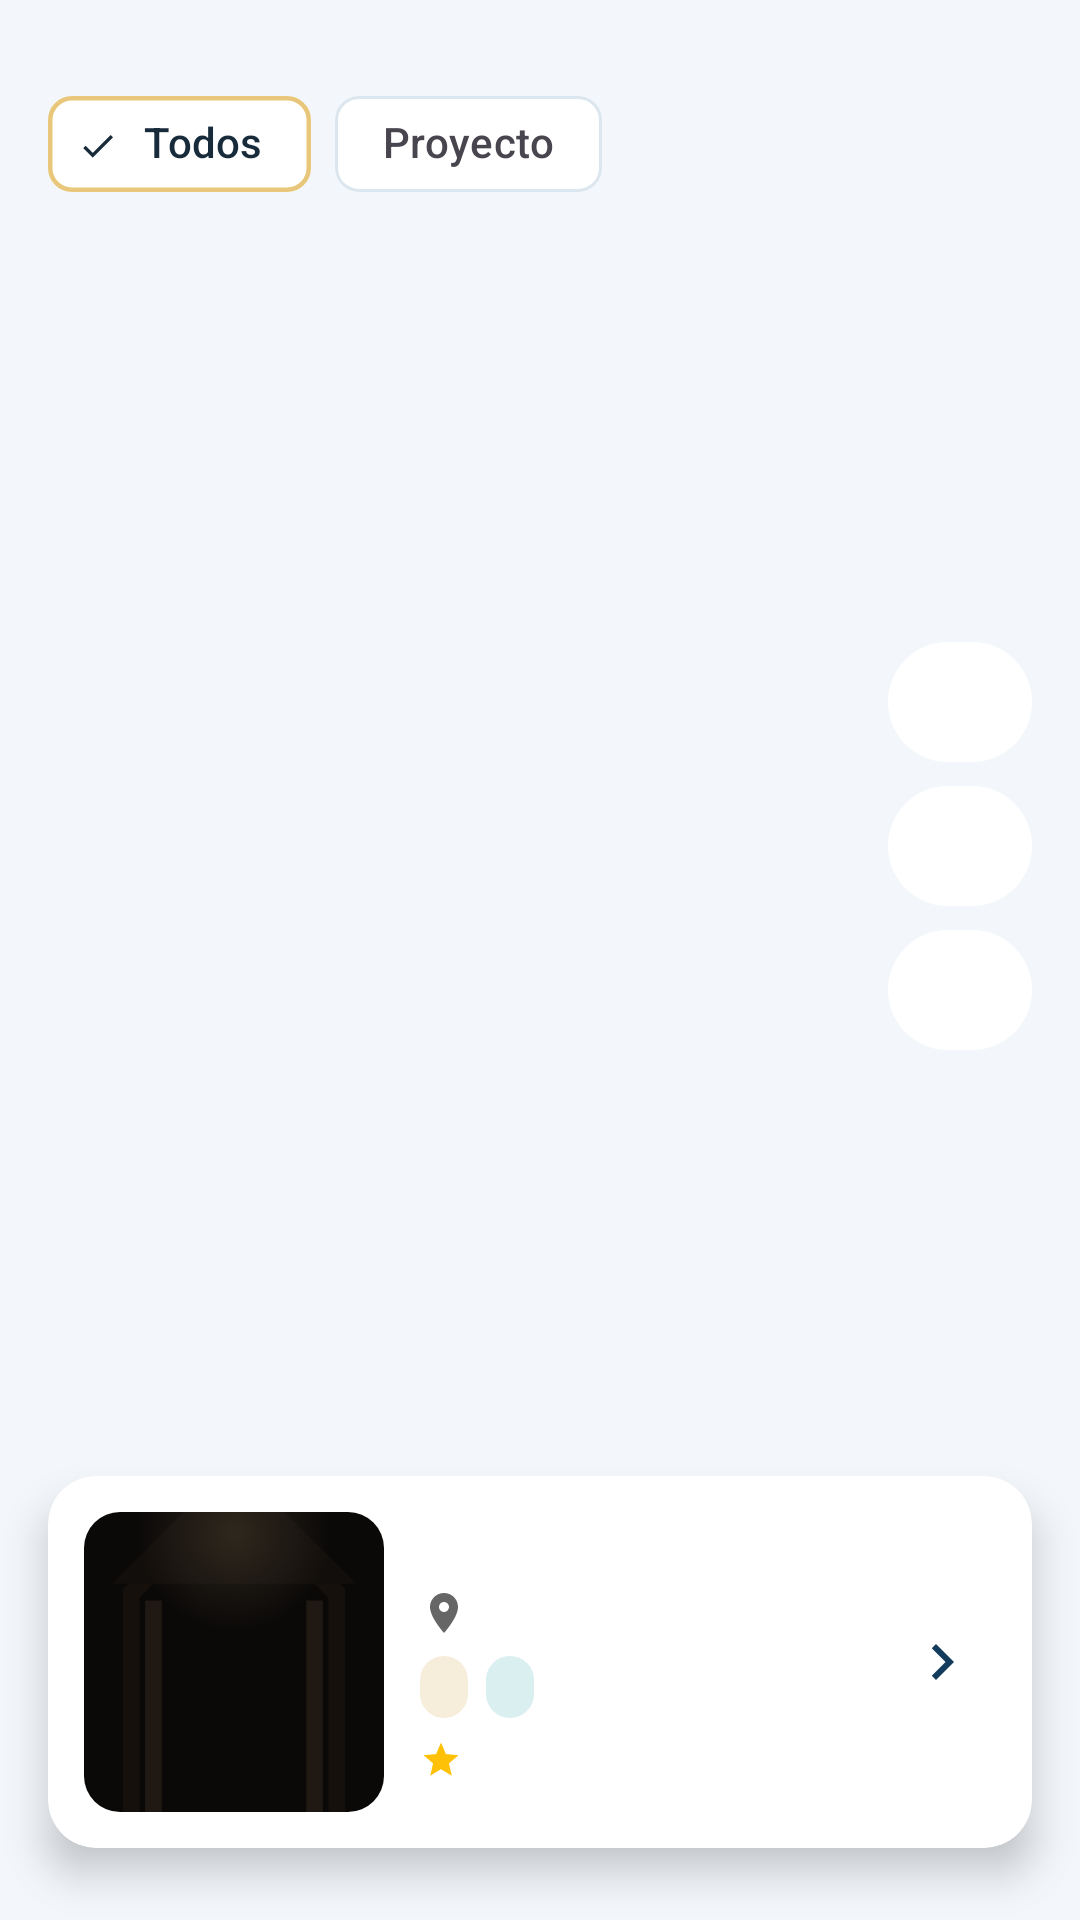

Screen size 1080×1920. Icon name, then its center in pixels as [x,y]:
star: [441,1759]
Ver detalle: [943,1662]
